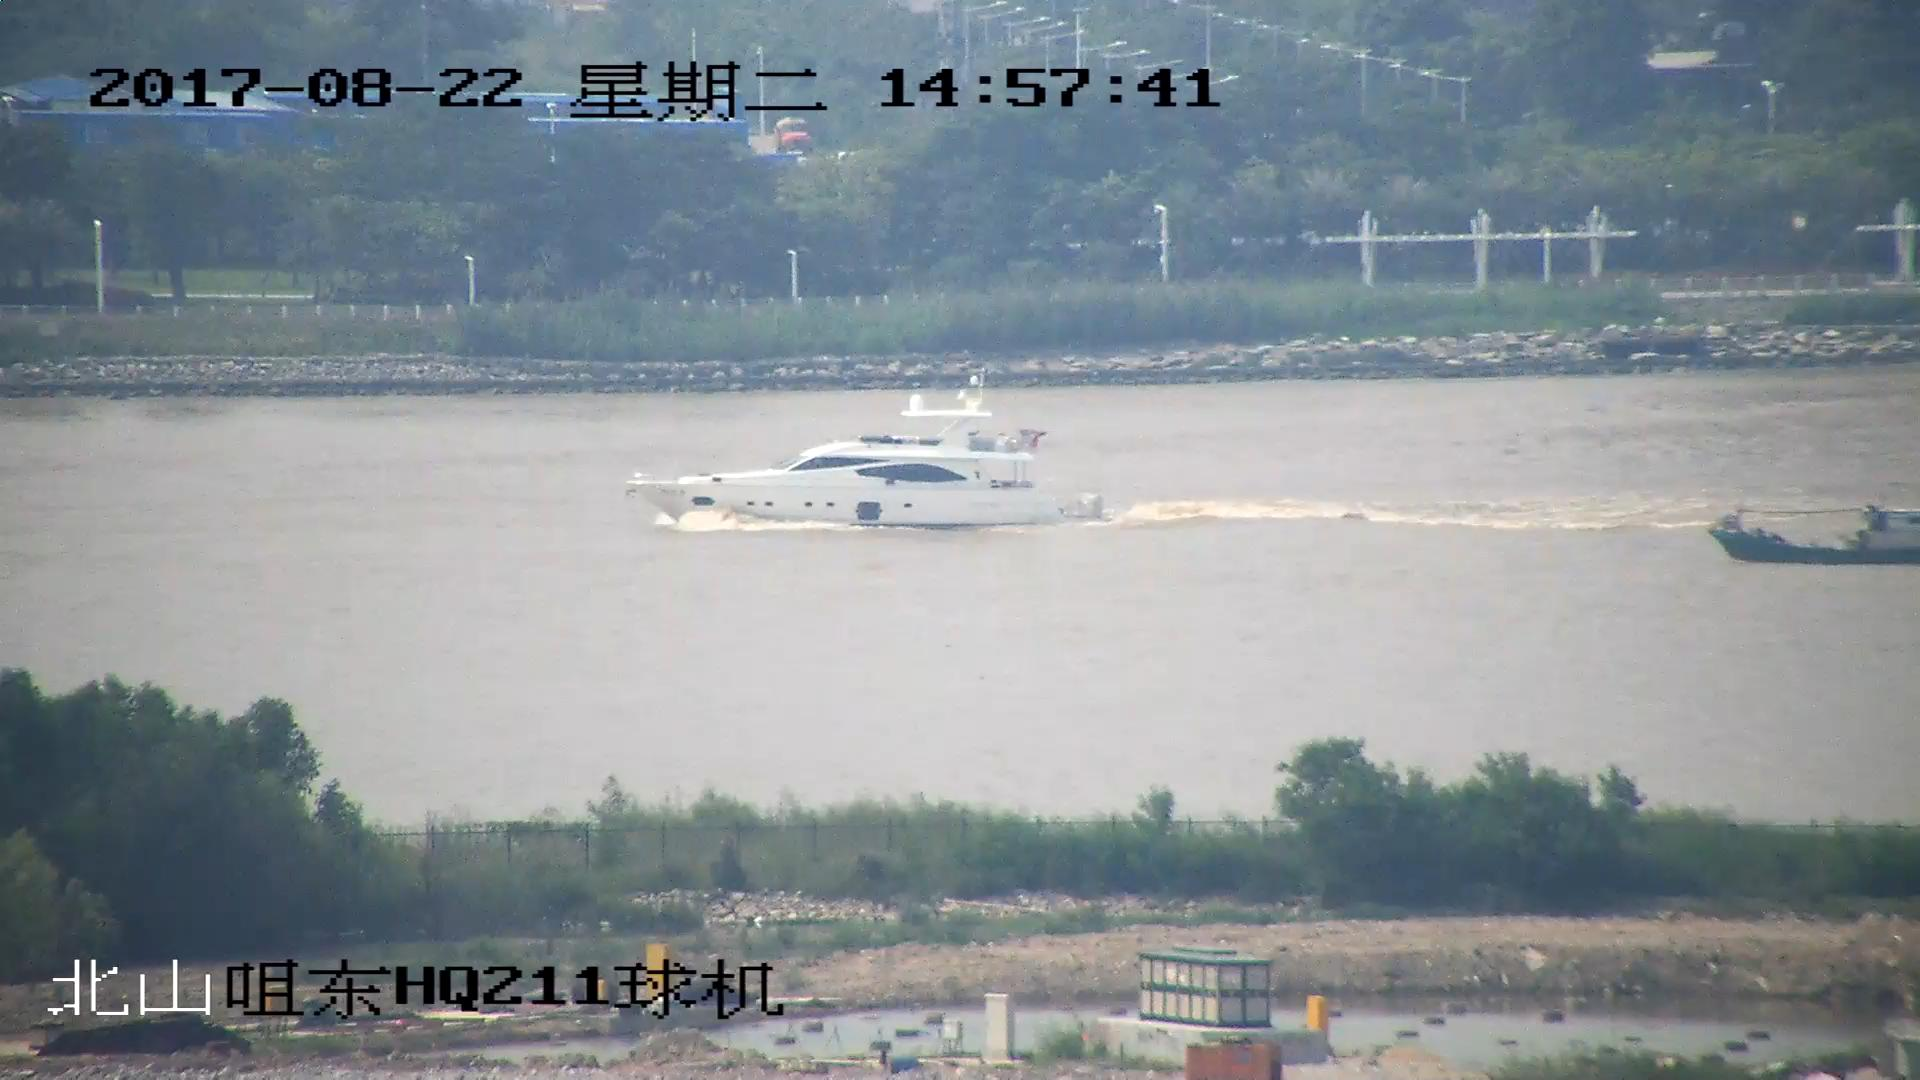fishing boat: (1714, 505, 1920, 568)
passenger ship: (630, 377, 1106, 533)
